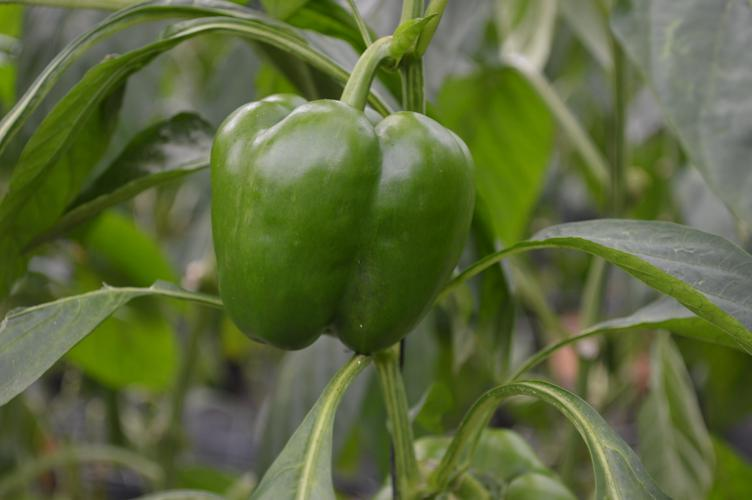BellPepper: (207, 91, 474, 351)
